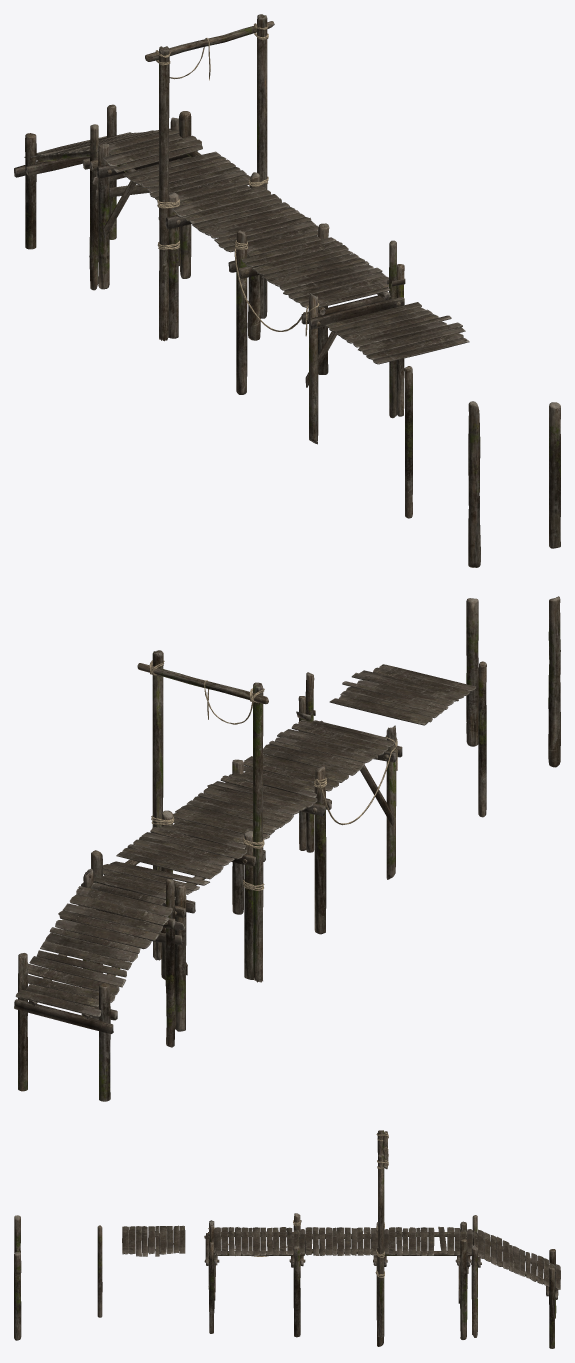
File: modular_wooden_pier.glb
3 views of the same model, one above another, from view 1: azimuth 30°, elevation 25°; view 2: azimuth 150°, elevation 25°; view 3: azimuth 270°, elevation 25° (orthographic). The views are drawn at different scales.
Parts seen in each view (by area): view 1: modular_wooden_pier_planks, modular_wooden_pier_section_01, modular_wooden_pier_poles; view 2: modular_wooden_pier_planks, modular_wooden_pier_section_01, modular_wooden_pier_poles; view 3: modular_wooden_pier_planks, modular_wooden_pier_section_01, modular_wooden_pier_poles.
Boxes of the visible parts, x1,y1,x2,y2 form: modular_wooden_pier_planks: [14, 23, 469, 387]; modular_wooden_pier_section_01: [25, 14, 404, 444]; modular_wooden_pier_poles: [404, 366, 560, 567]; modular_wooden_pier_planks: [14, 660, 476, 1033]; modular_wooden_pier_section_01: [18, 650, 396, 1101]; modular_wooden_pier_poles: [466, 596, 560, 817]; modular_wooden_pier_planks: [122, 1132, 560, 1303]; modular_wooden_pier_section_01: [204, 1130, 558, 1348]; modular_wooden_pier_poles: [14, 1215, 102, 1340].
Bounding box in the file's own units: 3.1 × 7.51 × 19.03.
Materials: 2 (2 with a texture image).
